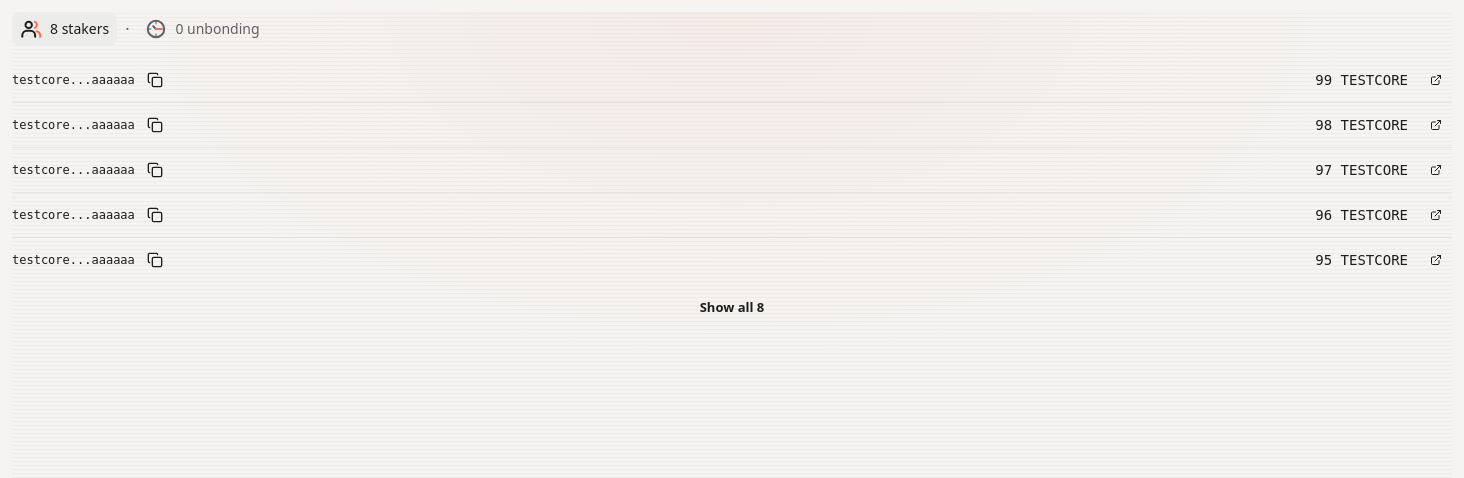
ValidatorDelegatorsCard top five and Show all: P1 › opens the rest in the drop-down on Show all, then folds it back
Click the button "Show all 8" at (732, 308), box top-left (12, 290), bottom-right (1452, 326)
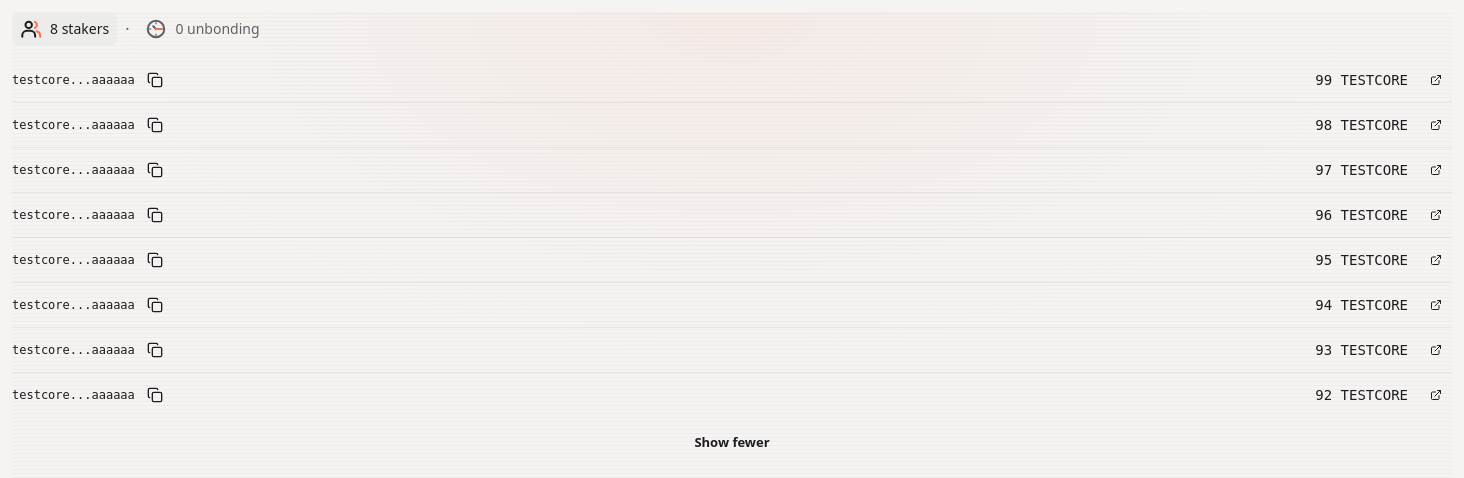
expect the number of list items is 8: met
expect the button "Show fewer" is expanded: met
Click the button "Show fewer" at (732, 443), box top-left (12, 425), bottom-right (1452, 461)
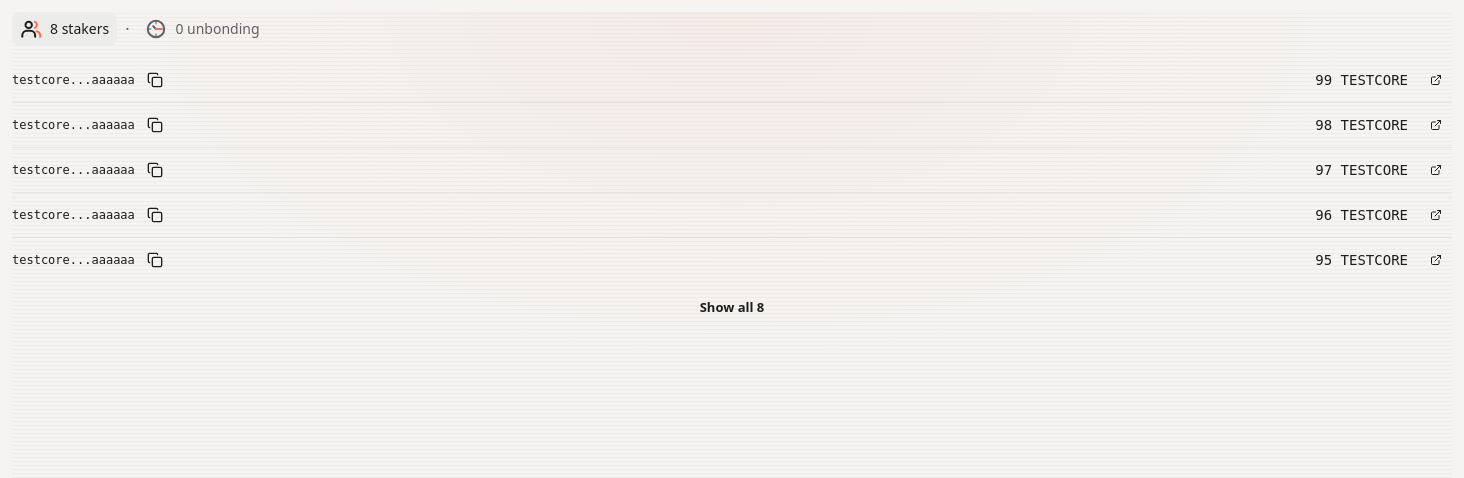
expect the number of list items is 5: met, box top-left (12, 68), bottom-right (1442, 92); top-left (12, 102), bottom-right (1452, 147); top-left (12, 147), bottom-right (1452, 192); top-left (12, 192), bottom-right (1452, 237); top-left (12, 237), bottom-right (1452, 282)
